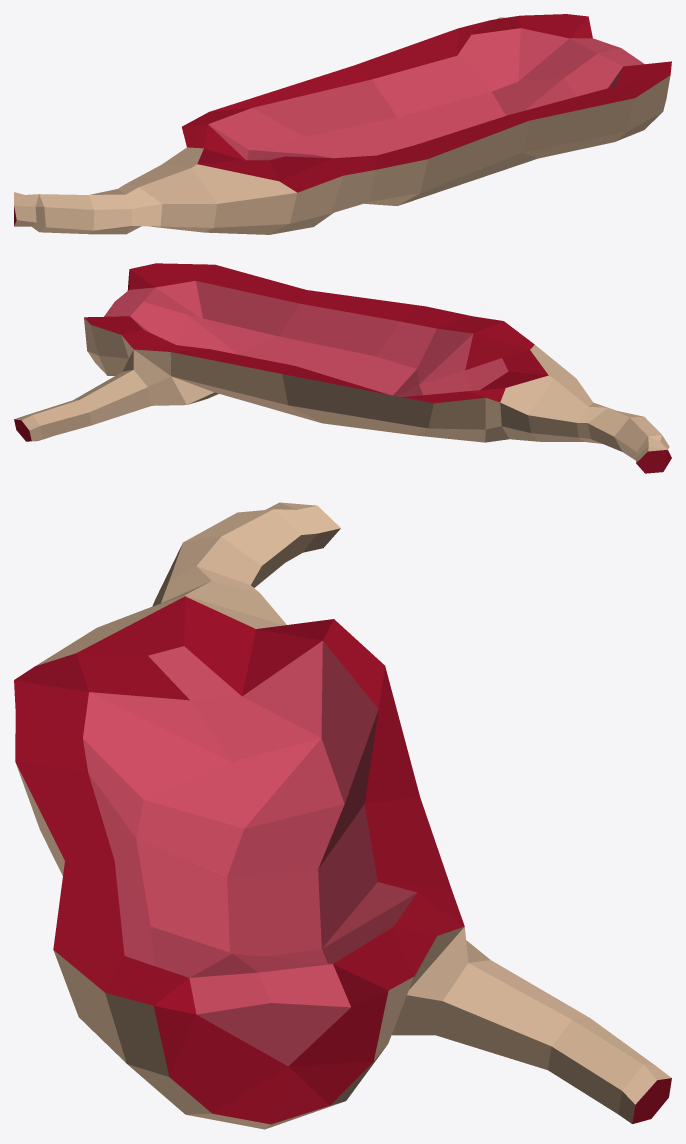
File: pigside.fbx
The picture shows the model from 3 angles, top to bottom: view 1: azimuth 30°, elevation 25°; view 2: azimuth 150°, elevation 25°; view 3: azimuth 270°, elevation 25°; orthographic projection. The views are drawn at different scales.
Parts seen in each view (by area): view 1: pigside; view 2: pigside; view 3: pigside.
Boxes of the visible parts, x1=… form: pigside: x1=14, y1=14, x2=671, y2=234; pigside: x1=14, y1=263, x2=671, y2=473; pigside: x1=14, y1=502, x2=671, y2=1129.
Bounding box in the file's own units: 1.96 × 0.2596 × 1.02.
